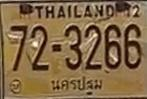2: (30, 25, 48, 70), (84, 24, 101, 70)
3: (64, 24, 81, 69)
6: (123, 23, 141, 68), (104, 24, 120, 68)
7: (8, 24, 27, 70)
NPT: (51, 75, 105, 96)
